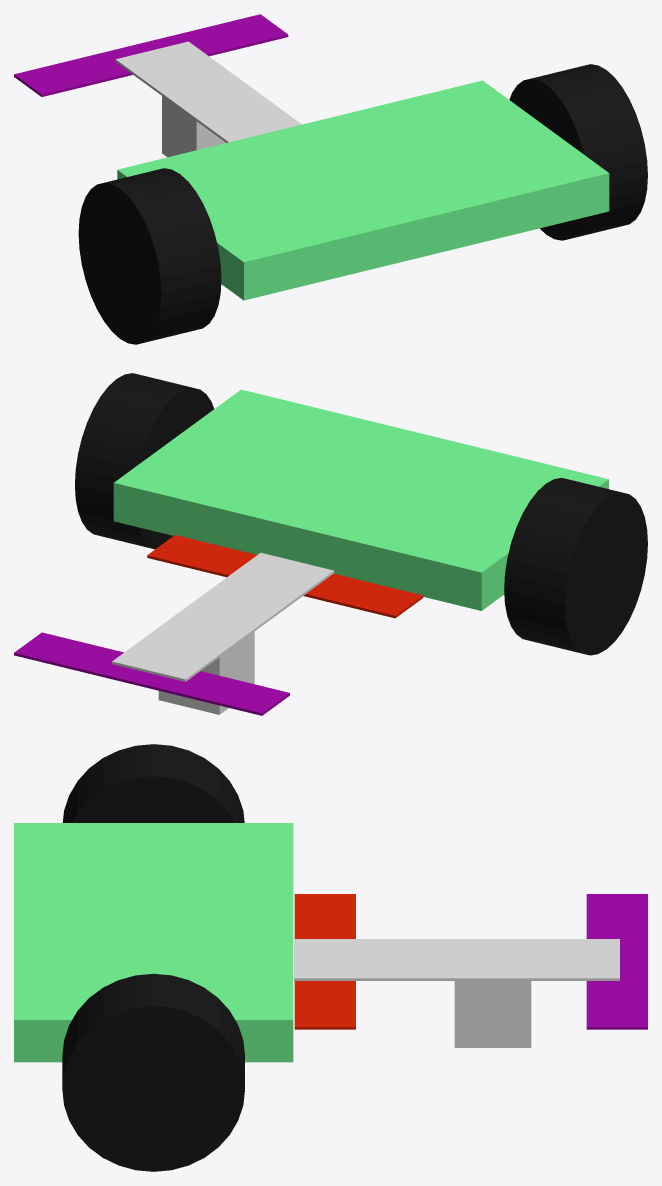
The model's file is FastLineFollower.fbx.
3 views of the same model, one above another, from view 1: azimuth 30°, elevation 25°; view 2: azimuth 150°, elevation 25°; view 3: azimuth 270°, elevation 25° (orthographic). The views are drawn at different scales.
Visible parts, largest first — view 1: Cube, Cylinder.001, Cylinder, Cube.001, Cube.002, Cube.004; view 2: Cube, Cylinder.001, Cylinder, Cube.001, Cube.002, Cube.003, Cube.004; view 3: Cube, Cylinder, Cube.001, Cylinder.001, Cube.002, Cube.003, Cube.004.
Boxes of the visible parts, x1,y1,x2,y2 form: Cube: (117,80,609,300); Cylinder.001: (78,168,221,344); Cylinder: (509,64,647,240); Cube.001: (115,41,301,142); Cube.002: (14,14,288,96); Cube.004: (162,96,225,157); Cube: (113,389,608,610); Cylinder.001: (504,478,647,655); Cylinder: (75,373,214,549); Cube.001: (112,552,334,681); Cube.002: (14,632,289,715); Cube.003: (147,535,423,618); Cube.004: (158,632,254,714); Cube: (14,823,293,1062); Cylinder: (62,973,244,1171); Cube.001: (294,939,619,980); Cylinder.001: (62,744,244,822); Cube.002: (586,894,647,1029); Cube.003: (294,894,355,1029); Cube.004: (454,981,531,1047).
Bounding box in the file's own units: 0.1997 × 0.2042 × 0.0589.
